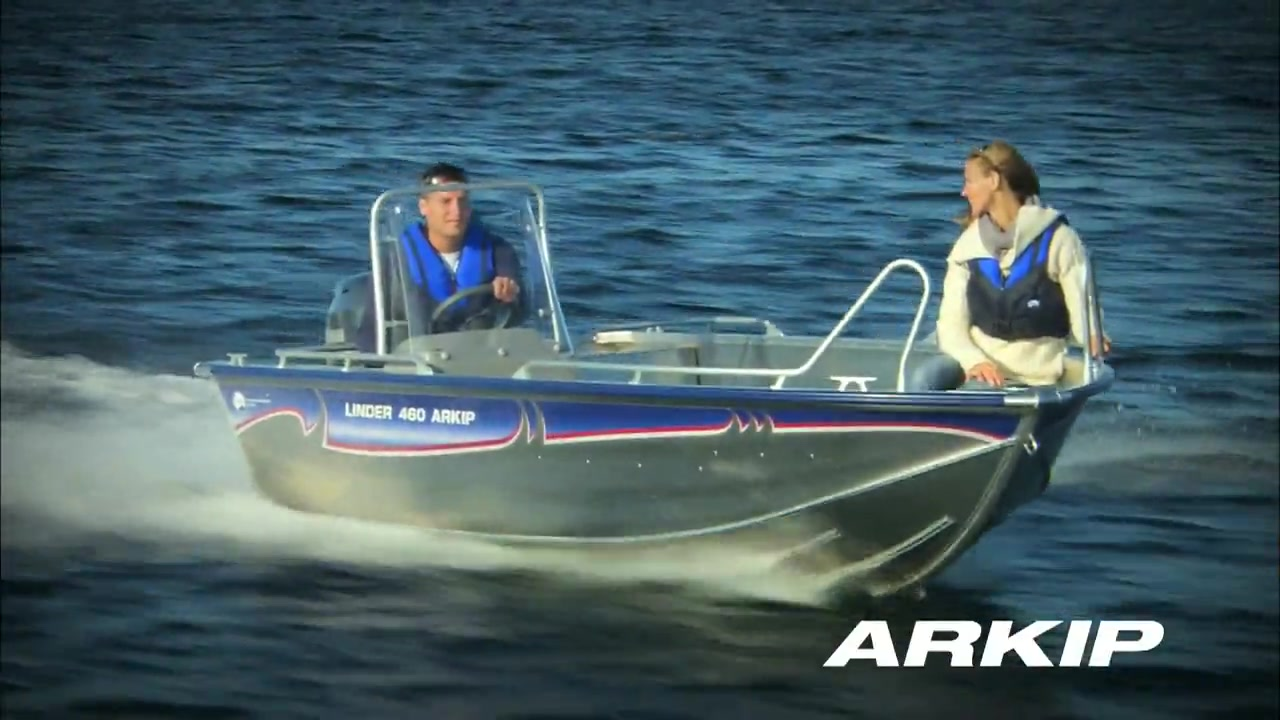boat: (192, 178, 1121, 608)
